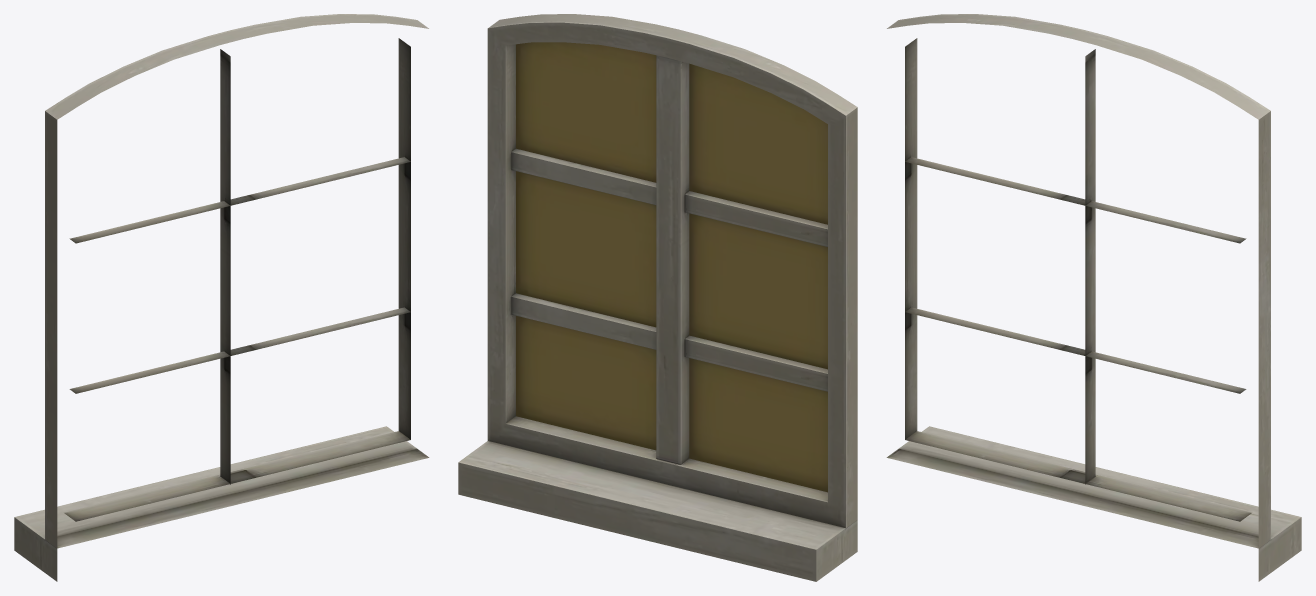
3 views of the same model, side by side, from view 1: azimuth 30°, elevation 25°; view 2: azimuth 150°, elevation 25°; view 3: azimuth 330°, elevation 25° (orthographic). The views are drawn at different scales.
Parts seen in each view (by area): view 1: body0_model0_lod0_mesh0; view 2: body0_model0_lod0_mesh0; view 3: body0_model0_lod0_mesh0.
Boxes of the visible parts, left/top/right/bottom form: body0_model0_lod0_mesh0: left=14, top=14, right=429, bottom=581; body0_model0_lod0_mesh0: left=458, top=14, right=857, bottom=581; body0_model0_lod0_mesh0: left=886, top=14, right=1301, bottom=581.
Size of the model in its own units: 70 by 89.36 by 14.
1 material, 1 textured.
